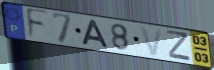7: (50, 11, 74, 46)
8: (109, 23, 132, 52)
A: (80, 19, 111, 50)
F: (25, 7, 50, 41)
V: (138, 25, 164, 58)
Z: (166, 29, 192, 63)
